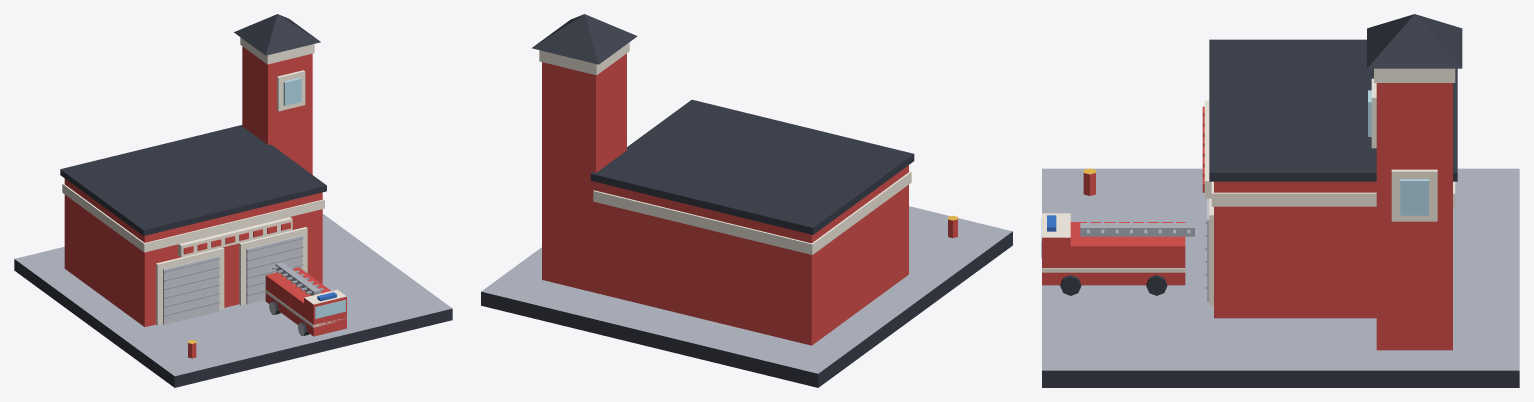
The model's file is public_fire_station.glb.
The picture shows the model from 3 angles, left to right: view 1: azimuth 30°, elevation 25°; view 2: azimuth 150°, elevation 25°; view 3: azimuth 270°, elevation 25°; orthographic projection. The views are drawn at different scales.
Parts seen in each view (by area): view 1: public_fire_station; view 2: public_fire_station; view 3: public_fire_station.
Part boxes in pixels (left/top/right/bottom): public_fire_station: left=14, top=14, right=452, bottom=387; public_fire_station: left=481, top=14, right=1012, bottom=387; public_fire_station: left=1041, top=14, right=1519, bottom=387.
Bounding box in the file's own units: 1 × 0.78 × 1.
